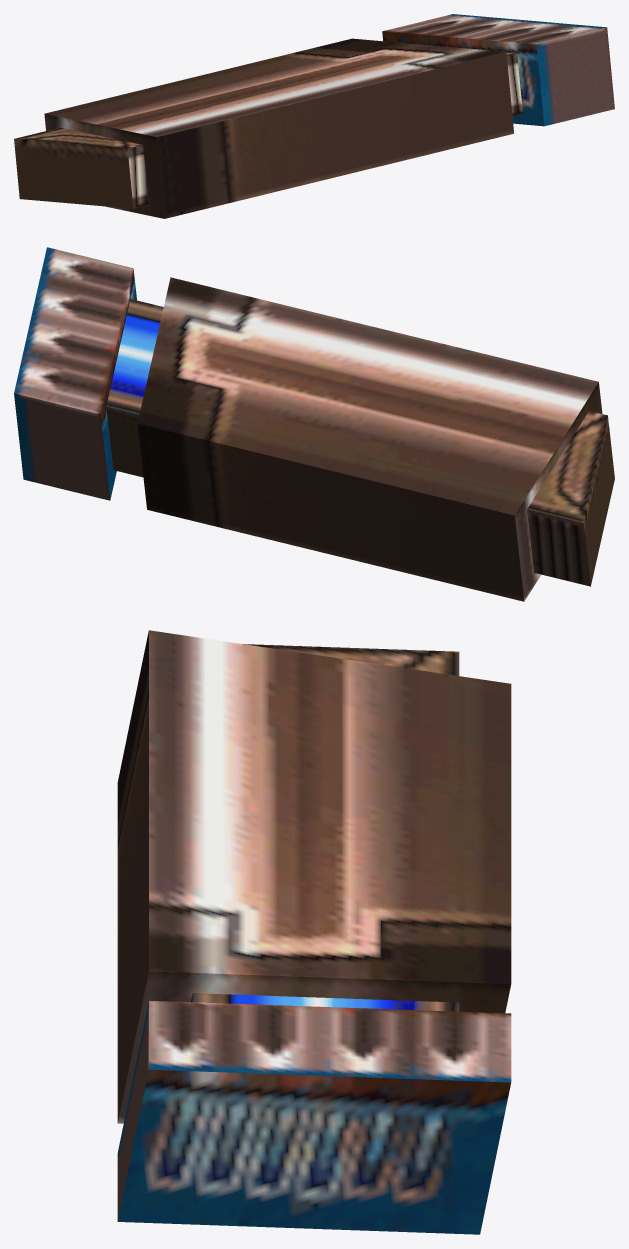
3 renders of one model, top to bottom at view 1: azimuth 30°, elevation 25°; view 2: azimuth 150°, elevation 25°; view 3: azimuth 270°, elevation 25°, orthographic. The views are drawn at different scales.
Visible parts, largest first — view 1: BW216; view 2: BW216; view 3: BW216.
Part boxes in pixels (box(x1,y1,x2,y2)): BW216: box(14, 14, 614, 218); BW216: box(14, 247, 614, 601); BW216: box(117, 630, 511, 1234).
Bounding box in the file's own units: 22.68 × 4.77 × 7.49.
1 material, 1 textured.
